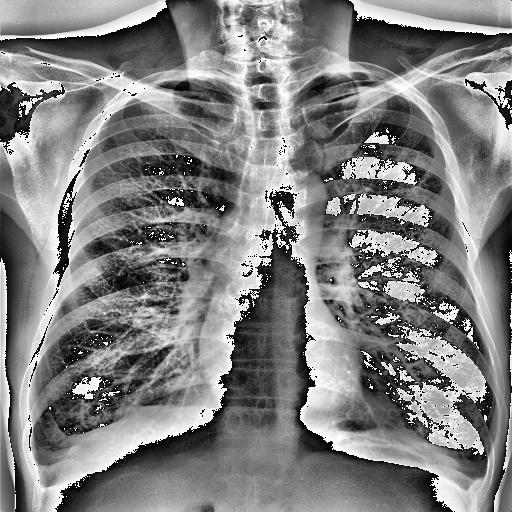10- Pleural effusion: (436, 444, 496, 496), (24, 440, 74, 489), (24, 438, 72, 476), (454, 453, 494, 494), (30, 450, 72, 489), (455, 463, 491, 498)
11- Pleural thickening: (436, 444, 496, 496), (24, 440, 74, 489), (24, 438, 72, 476), (454, 453, 494, 494), (30, 450, 72, 489), (455, 463, 491, 498), (142, 78, 230, 84)
13- Pulmonary fibrosis: (370, 426, 456, 466)
